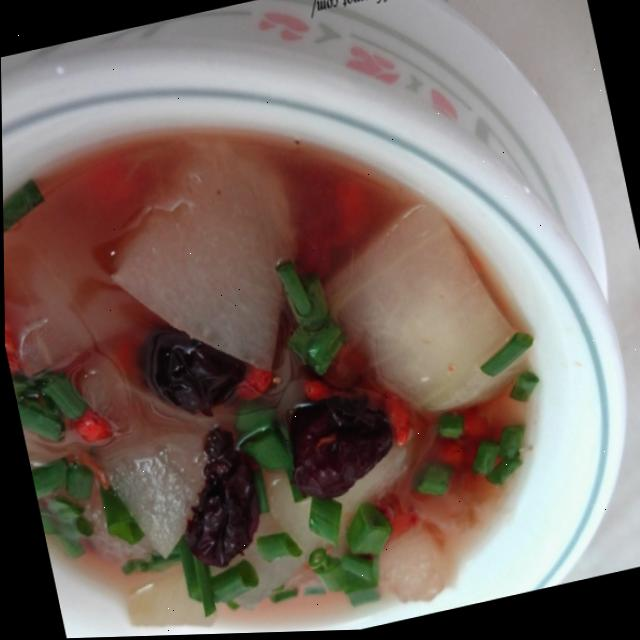汤锅炖物: (0, 6, 629, 640)
